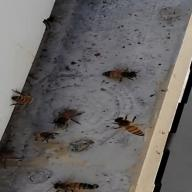Bee: (103, 111, 154, 140), (97, 64, 140, 84), (48, 179, 109, 192)
